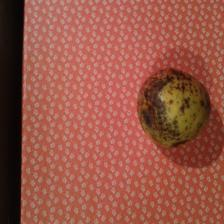Mango Semirotten: (132, 66, 213, 148)
